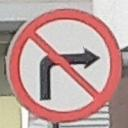NoVirarDireita: (2, 2, 126, 126)
